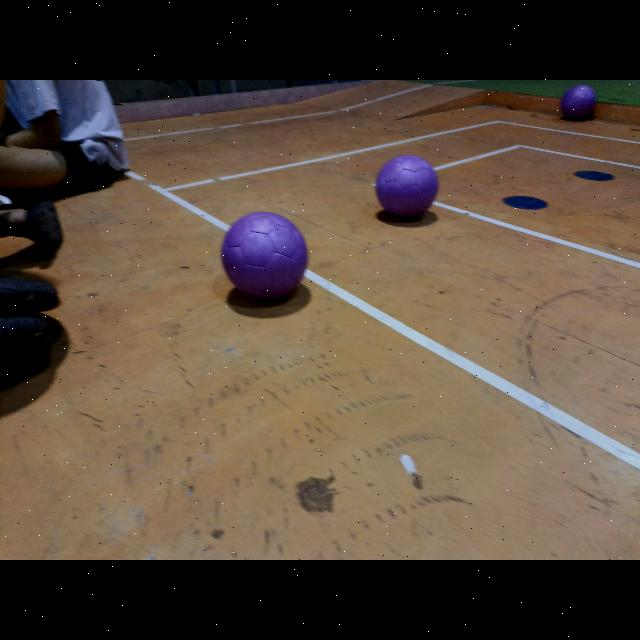P: (222, 212, 308, 300), (376, 156, 438, 218), (562, 84, 596, 120)
